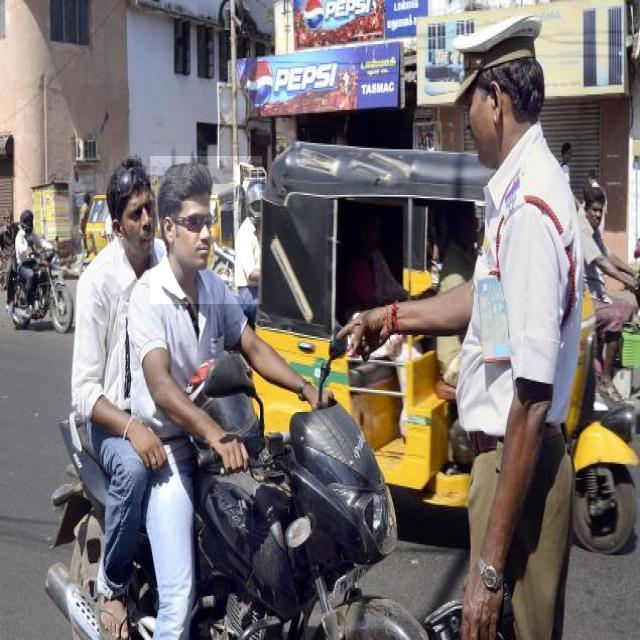No_Helmet: (150, 156, 262, 304)
